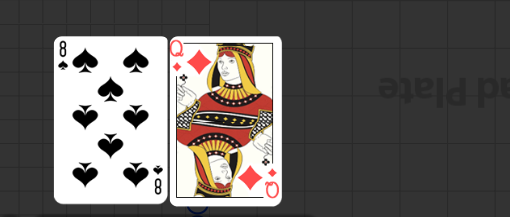8S: (57, 41, 70, 73)
QD: (182, 36, 226, 83), (249, 157, 293, 203)
